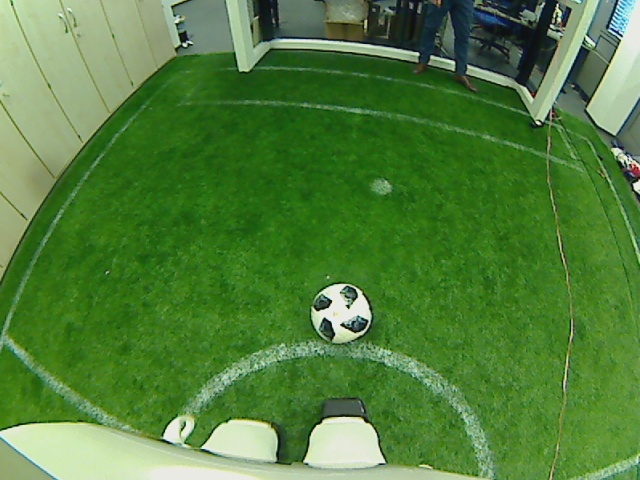ball: (307, 282, 373, 344)
